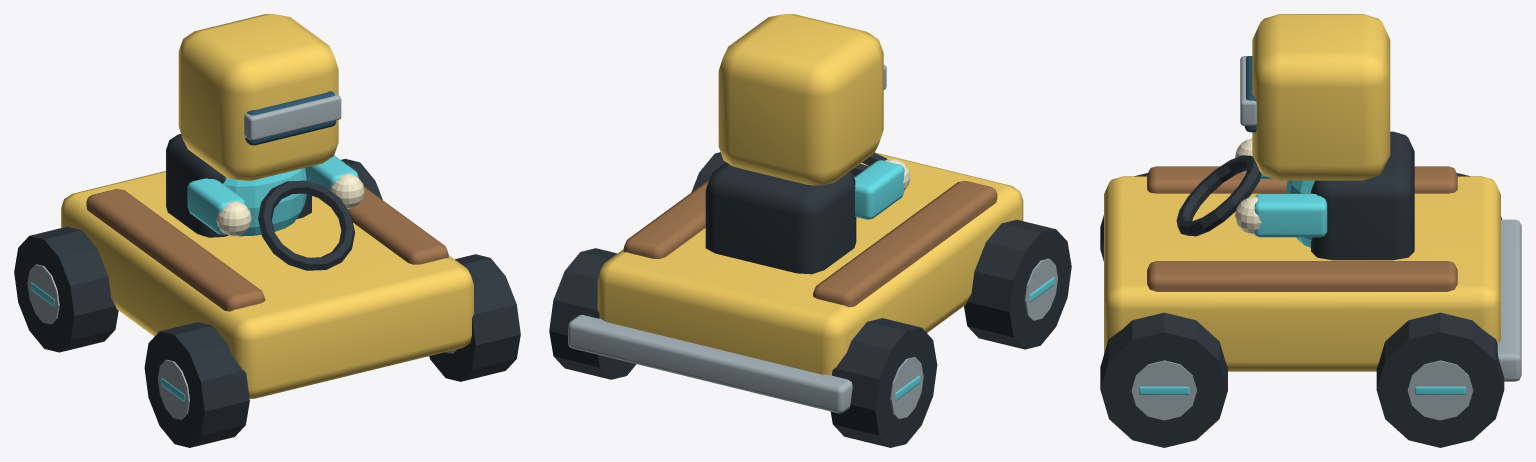
File: kart-2.glb
3 views of the same model, side by side, from view 1: azimuth 30°, elevation 25°; view 2: azimuth 150°, elevation 25°; view 3: azimuth 270°, elevation 25° (orthographic). The views are drawn at different scales.
Parts seen in each view (by area): view 1: Body.002, Helmet.002, Tire.008, Tire.009, Recycled side panel, Tire.010, Steering wheel.002, Recycled side panel.001, Seat.002, Suit.002, Goggles, Sleeve.004 (+7 smaller); view 2: Body.002, Helmet.002, Seat.002, Rear bumper.002, Tire.008, Tire.009, Recycled side panel, Tire.011, Recycled side panel.001, Sleeve.004, Hub.008, Hub.009; view 3: Body.002, Helmet.002, Tire.010, Tire.011, Recycled side panel.001, Seat.002, Recycled side panel, Rear bumper.002, Sleeve.005, Steering wheel.002, Hub.011, Hub.010 (+5 smaller).
Boxes of the visible parts, box(x1,y1,x2,y2) form: Body.002: box(61, 171, 473, 398); Helmet.002: box(178, 14, 338, 180); Tire.008: box(144, 322, 249, 447); Tire.009: box(14, 226, 118, 352); Recycled side panel: box(86, 189, 265, 311); Tire.010: box(429, 254, 520, 381); Steering wheel.002: box(258, 180, 354, 270); Recycled side panel.001: box(347, 186, 448, 264); Seat.002: box(166, 134, 311, 237); Suit.002: box(223, 168, 306, 236); Goggles: box(244, 92, 341, 140); Sleeve.004: box(187, 178, 245, 234); Body.002: box(597, 152, 1023, 374); Helmet.002: box(718, 14, 883, 185); Seat.002: box(705, 162, 856, 274); Rear bumper.002: box(568, 314, 852, 413); Tire.008: box(964, 219, 1071, 349); Tire.009: box(830, 318, 937, 447); Recycled side panel: box(813, 181, 997, 307); Tire.011: box(549, 248, 636, 379); Recycled side panel.001: box(623, 180, 708, 258); Sleeve.004: box(854, 160, 904, 219); Hub.008: box(1024, 258, 1057, 320); Hub.009: box(890, 357, 923, 418); Body.002: box(1104, 176, 1500, 371); Helmet.002: box(1252, 14, 1390, 180); Tire.010: box(1100, 312, 1227, 447); Tire.011: box(1376, 312, 1504, 447); Recycled side panel.001: box(1147, 261, 1457, 291); Seat.002: box(1311, 131, 1414, 260); Recycled side panel: box(1147, 166, 1457, 193); Rear bumper.002: box(1497, 219, 1521, 381); Sleeve.005: box(1254, 193, 1327, 237); Steering wheel.002: box(1176, 155, 1261, 236); Hub.011: box(1407, 360, 1473, 420); Hub.010: box(1131, 360, 1196, 420).
Size of the model in its own units: 2.27 by 2.13 by 2.44.
